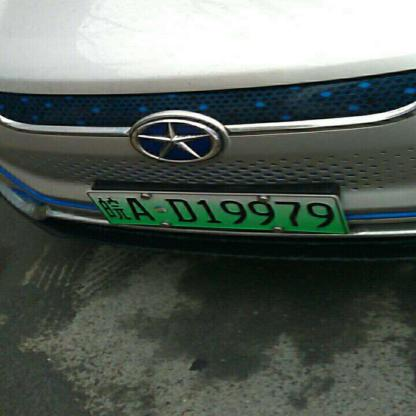lp: (88, 192, 345, 233)
